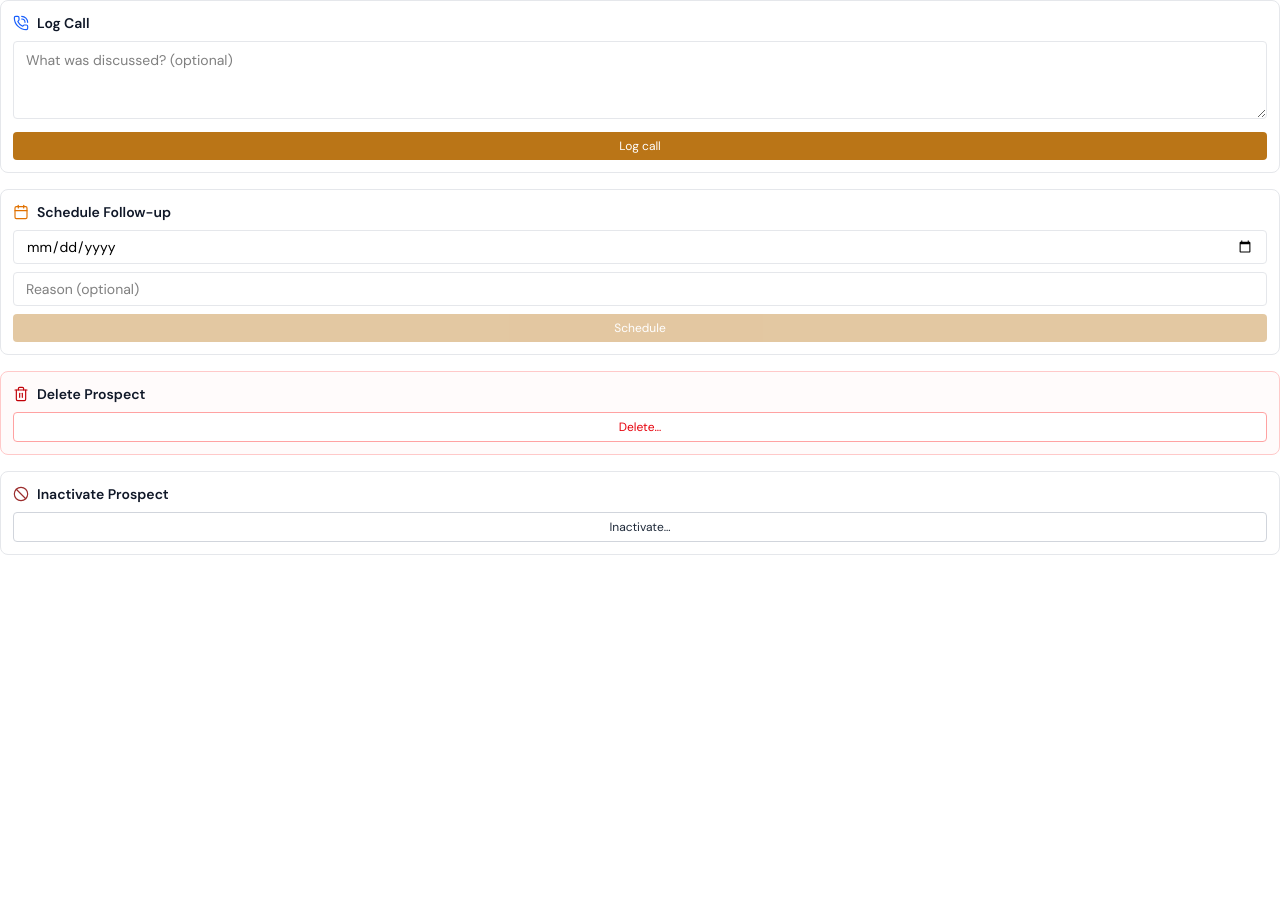
Test: ActionsTab renders the delete refusal › a 409 is shown with its message and the open load to cancel first, and offers Inactivate instead
Step 1. Click the button "Delete…" → (640, 427), box [13,412,1267,442]
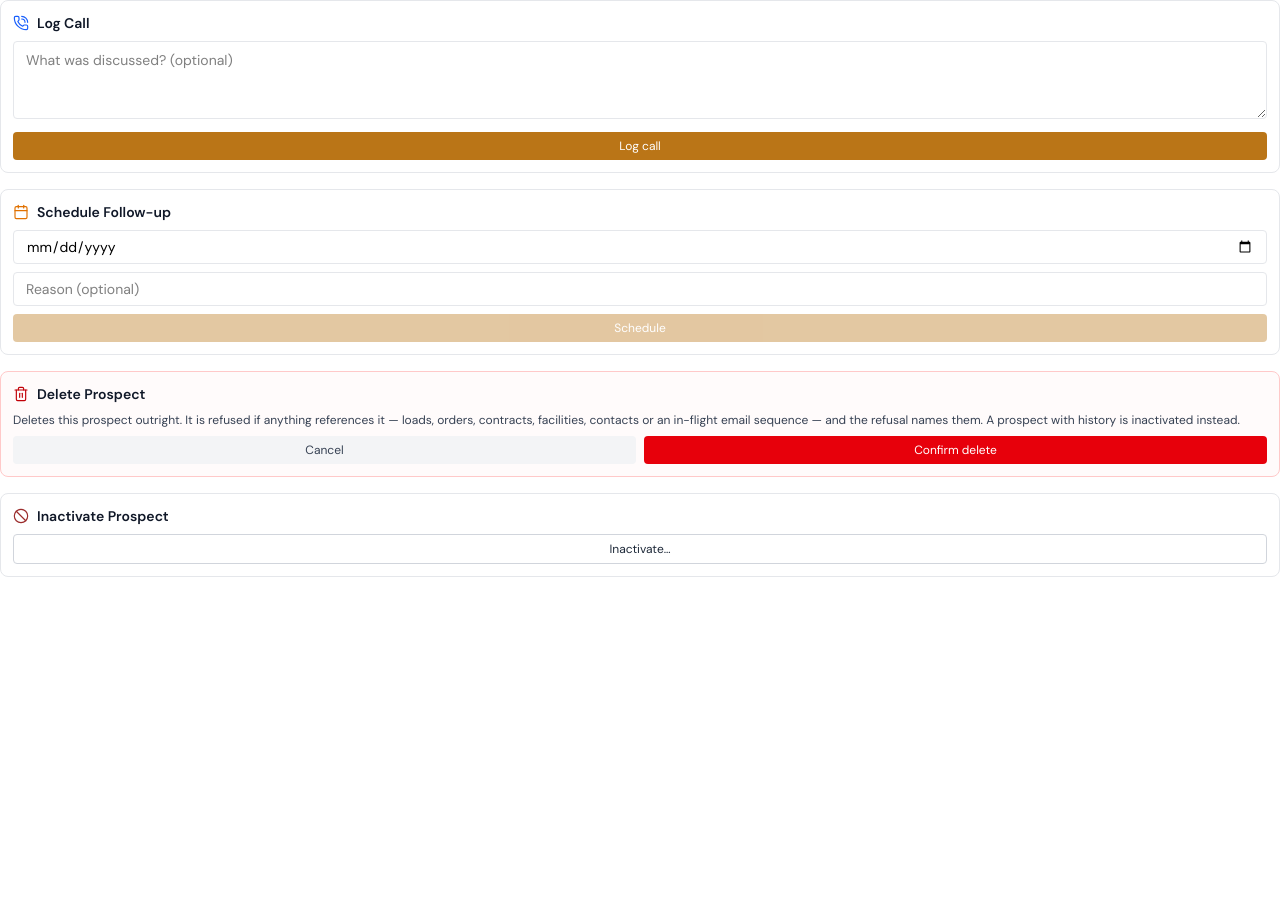
Step 2. Click the button "Confirm delete" → (956, 450), box [644,436,1267,464]
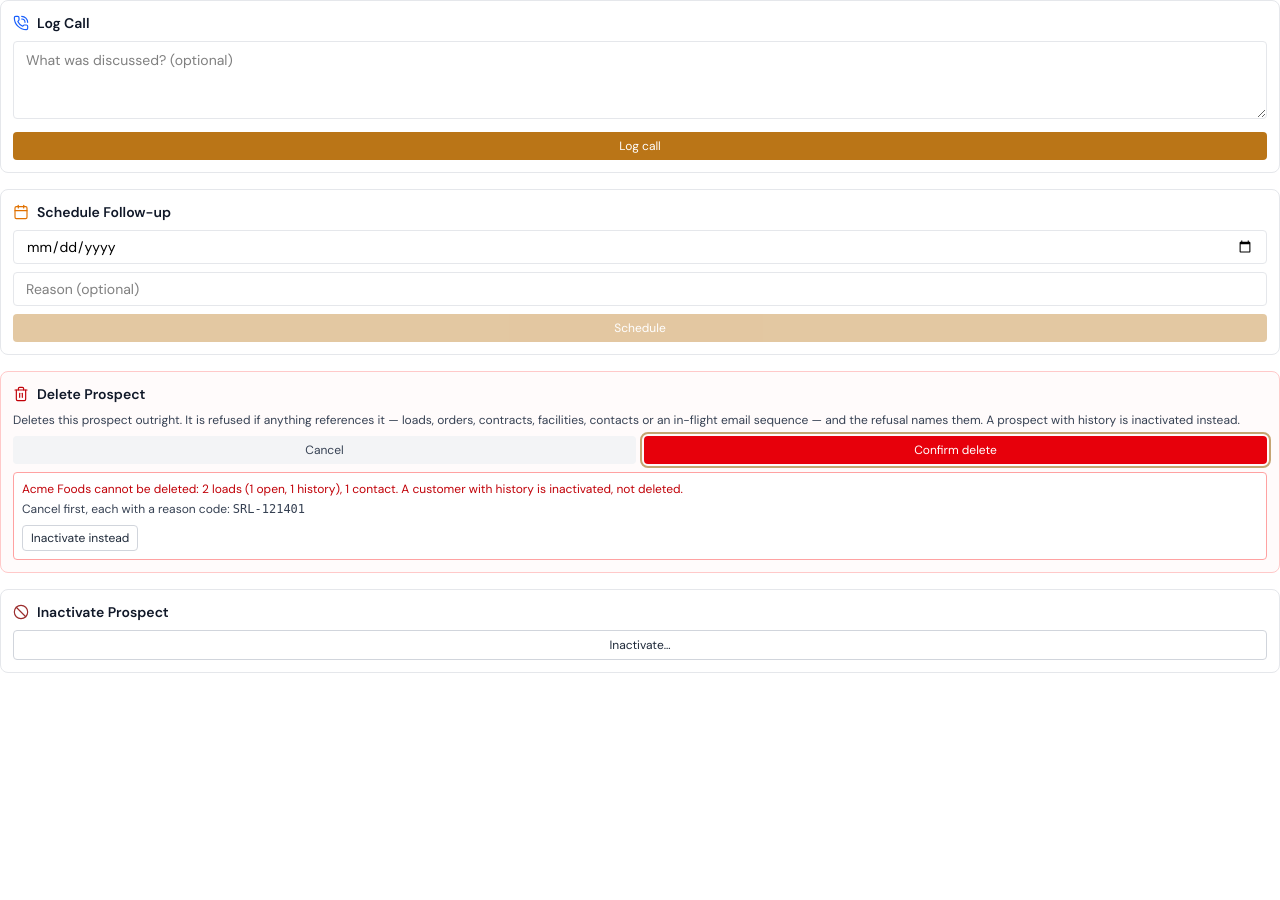
Expected: the message shows "Acme Foods cannot be deleted", [22,481,683,497]
Expected: the message shows "inactivated, not deleted", [22,481,683,497]
Expected: the message shows "Cancel first, each with a reason code: SRL-121401", [13,472,1267,560]
